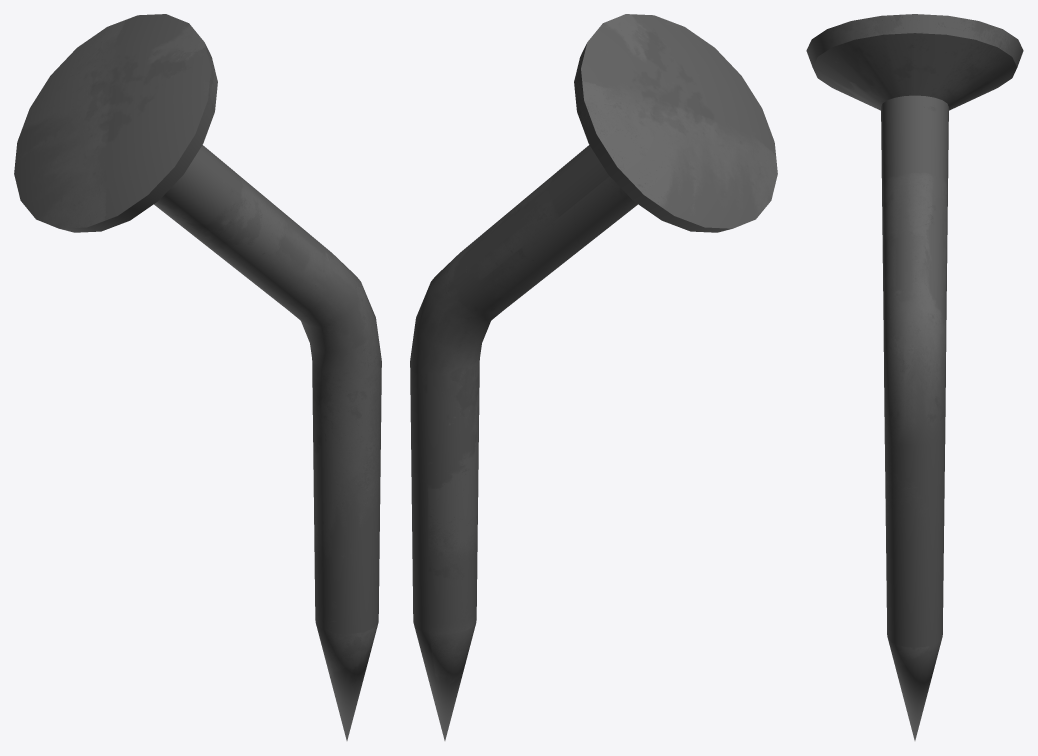
Rendered from Nail_Bend_Left.fbx.
3 views of the same model, side by side, from view 1: azimuth 30°, elevation 25°; view 2: azimuth 150°, elevation 25°; view 3: azimuth 270°, elevation 25° (orthographic). The views are drawn at different scales.
Visible parts, largest first — view 1: Nail_BendLeft_01; view 2: Nail_BendLeft_01; view 3: Nail_BendLeft_01.
Part boxes in pixels (box(x1,y1,x2,y2)): Nail_BendLeft_01: box(14, 14, 381, 740); Nail_BendLeft_01: box(410, 14, 777, 740); Nail_BendLeft_01: box(806, 14, 1023, 740).
Size of the model in its own units: 3.17 by 6.72 by 2.
